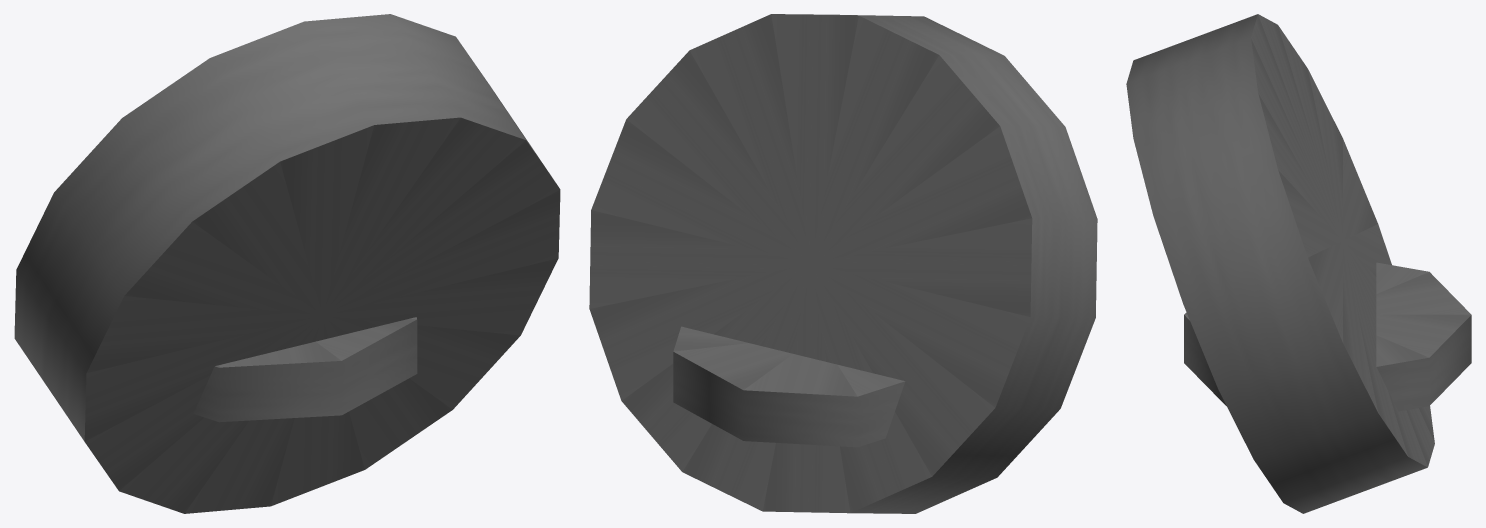
The model's file is mastarmcurve_8x2_c2_down.obj.
3 views of the same model, side by side, from view 1: azimuth 30°, elevation 25°; view 2: azimuth 150°, elevation 25°; view 3: azimuth 270°, elevation 25° (orthographic). The views are drawn at different scales.
Visible parts, largest first — view 1: mastarm_8x2_c2_down; view 2: mastarm_8x2_c2_down; view 3: mastarm_8x2_c2_down.
Part boxes in pixels (x1,y1,x2,y2): mastarm_8x2_c2_down: [14, 14, 560, 513]; mastarm_8x2_c2_down: [589, 14, 1097, 513]; mastarm_8x2_c2_down: [1126, 14, 1471, 513].
Size of the model in its own units: 0.6741 by 0.6948 by 0.4803.
